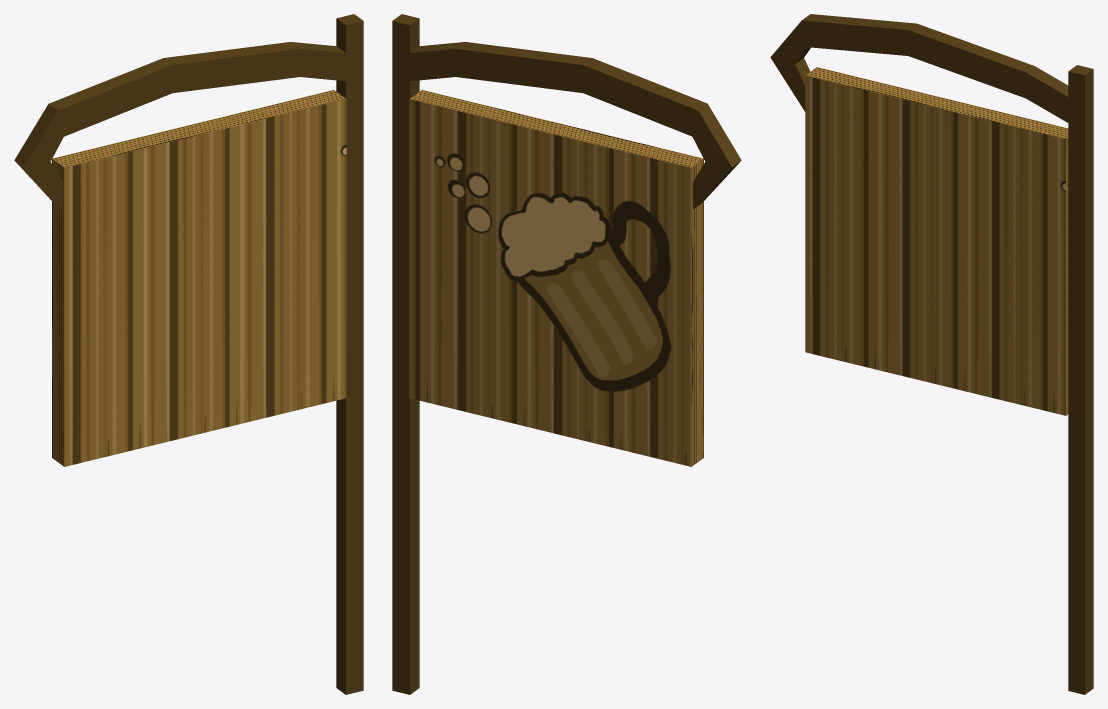
File: paal2.fbx
3 renders of one model, left to right at view 1: azimuth 30°, elevation 25°; view 2: azimuth 150°, elevation 25°; view 3: azimuth 330°, elevation 25°, orthographic. The views are drawn at different scales.
Parts seen in each view (by area): view 1: paal2; view 2: paal2; view 3: paal2.
Part boxes in pixels (left/top/right/bottom): paal2: left=14, top=14, right=363, bottom=694; paal2: left=392, top=14, right=741, bottom=694; paal2: left=770, top=14, right=1093, bottom=694.
Size of the model in its own units: 0.0103 by 0.0195 by 0.00066.
Materials: 1 (1 with a texture image).
